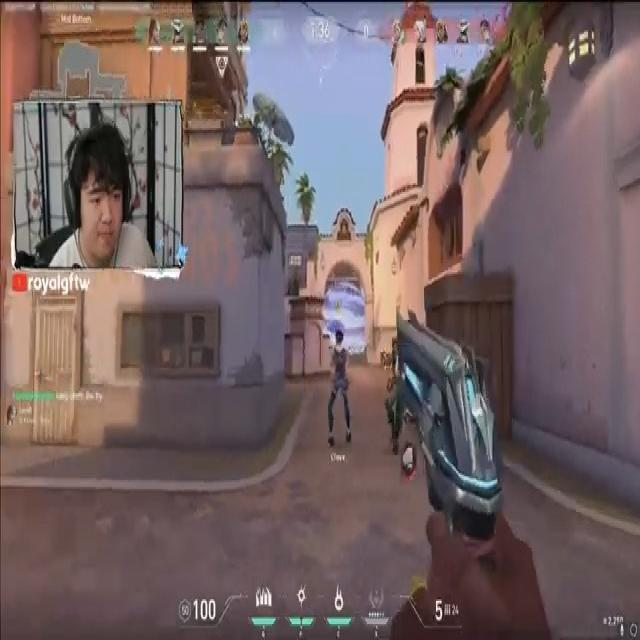ally: (325, 322, 354, 452)
smoke: (322, 283, 370, 353)
